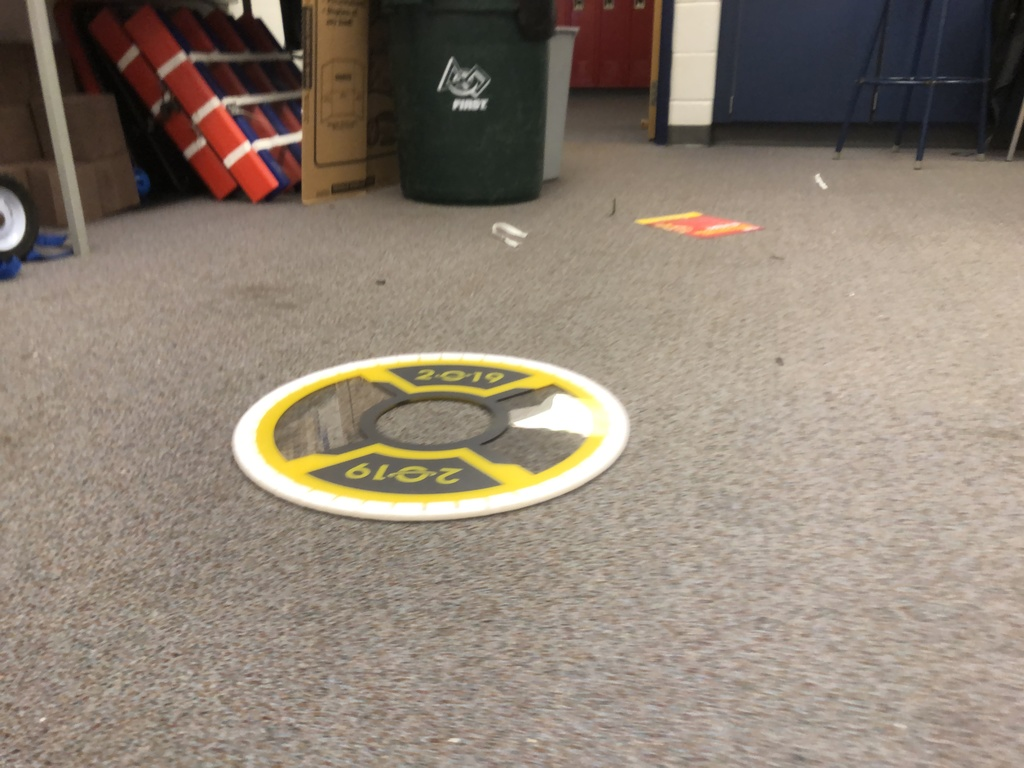hatch_panel: (213, 336, 666, 536)
